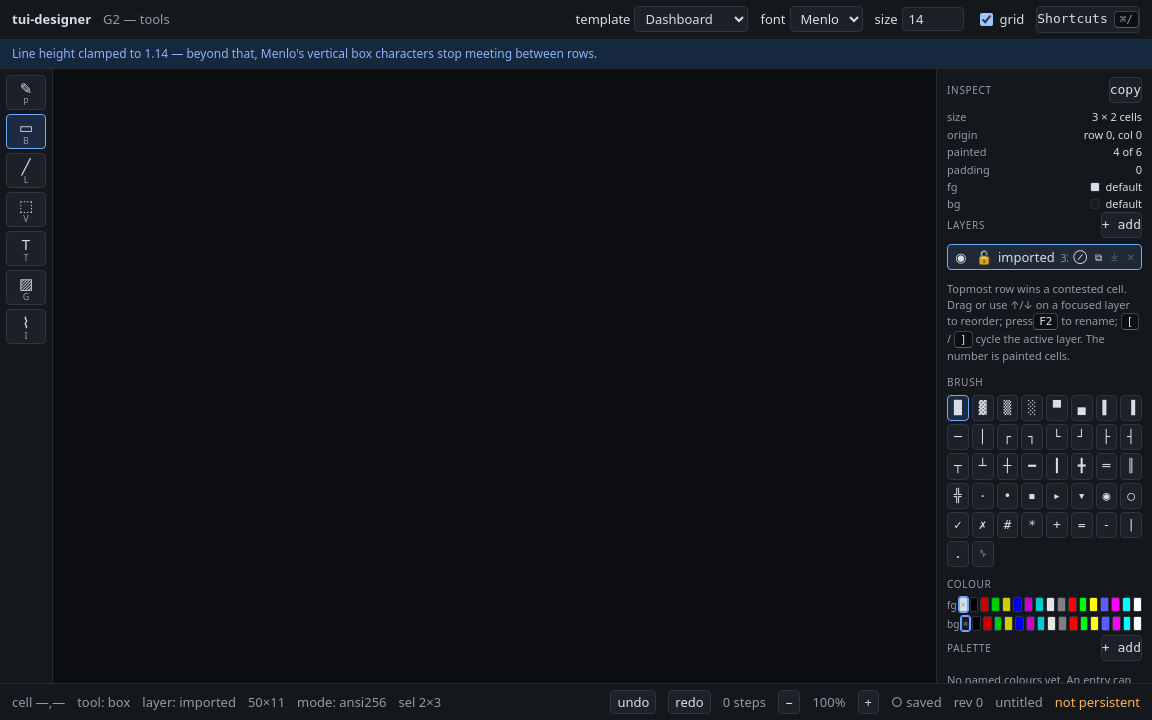
Test: App component boundary › injects clipboard behavior without reading the browser clipboard global
The width and height of the screenshot is (1152, 720).
Click the button "copy". click: (1125, 90)
box: [1109,77,1142,104]
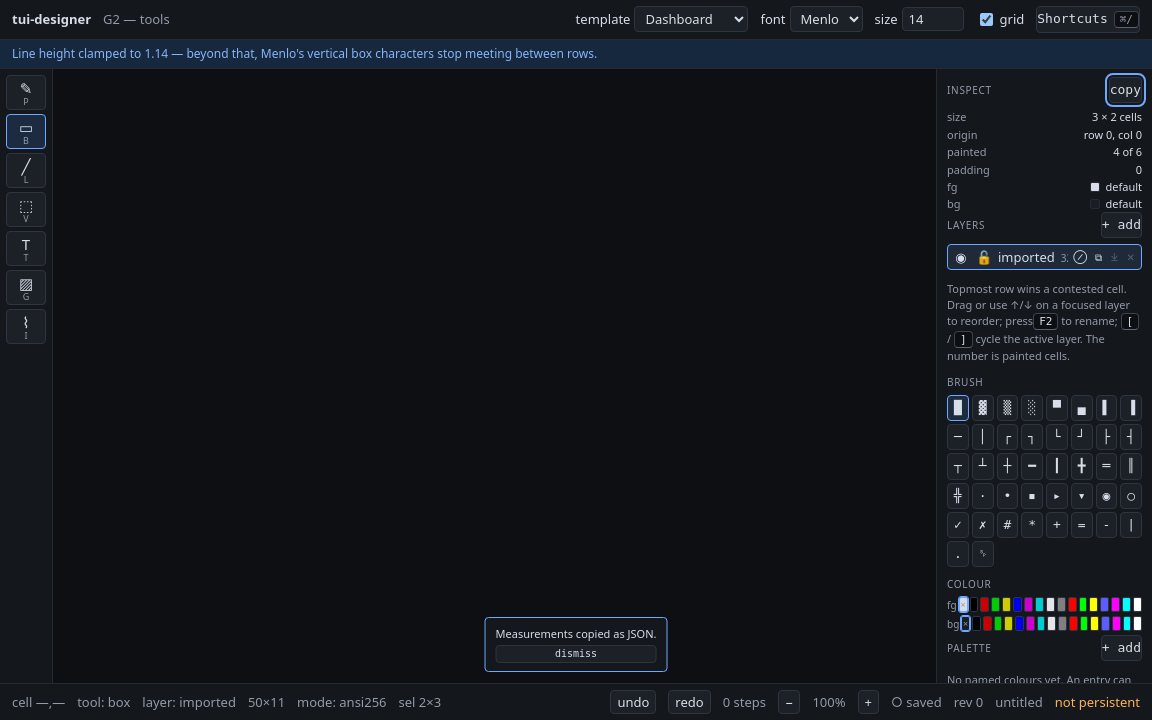
Check: the text "Measurements copied as JSON." is shown, box [496,626,656,641]
